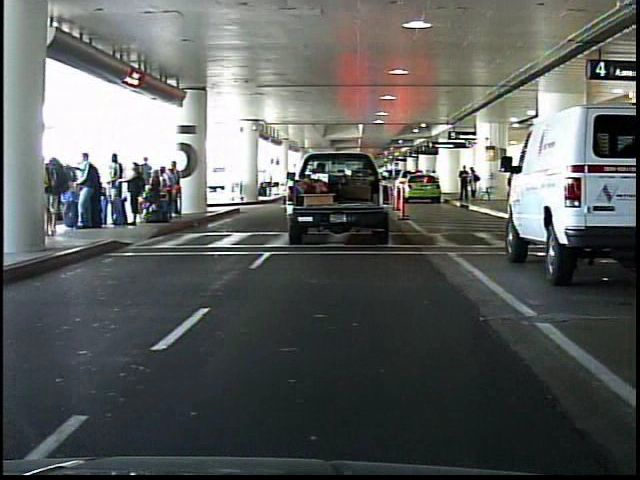person: (468, 165, 481, 203), (457, 165, 469, 203)
